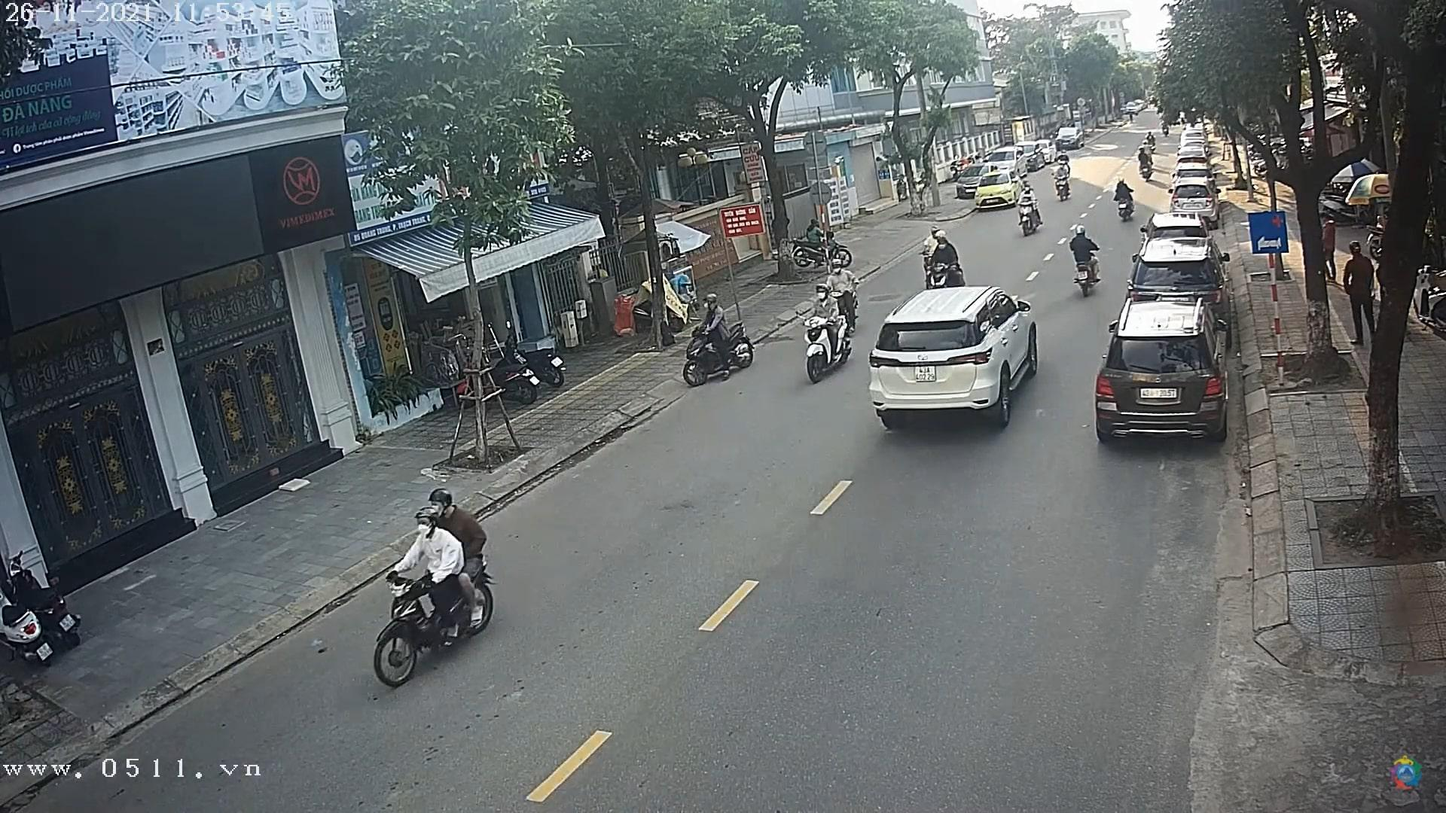car: (869, 287, 1047, 422), (1097, 306, 1226, 443), (1130, 236, 1227, 302)
motorbike: (366, 556, 494, 689), (682, 322, 757, 392), (803, 311, 852, 383), (1072, 247, 1103, 300), (924, 260, 963, 287), (1021, 202, 1046, 238)
